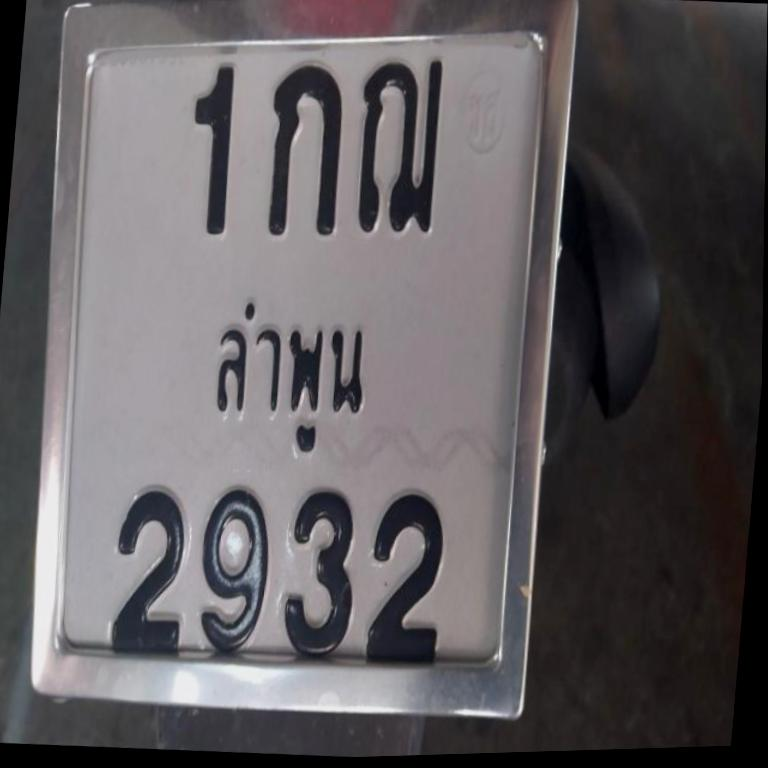license plate: (0, 0, 592, 739)
